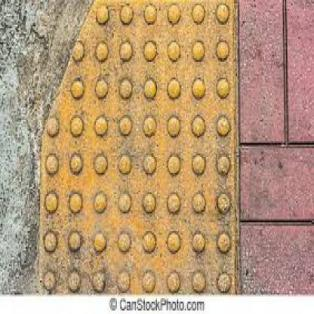Podoctatil: (30, 0, 239, 293)
